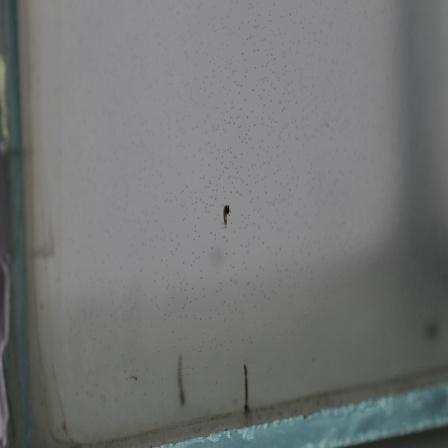Jentik-Nyamuk: (239, 360, 258, 420), (220, 201, 233, 230)
